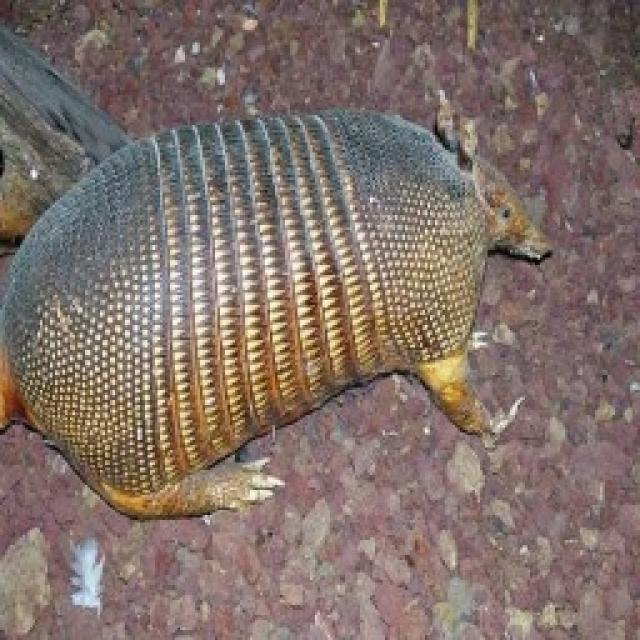not_pig: (0, 87, 555, 517)
